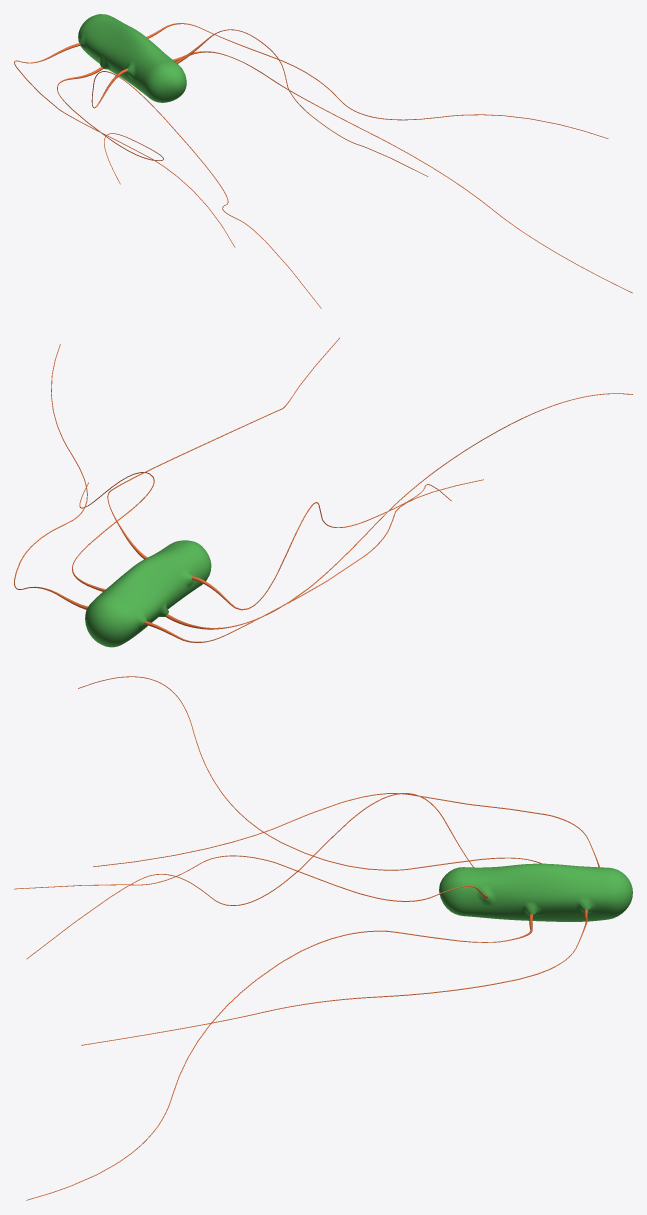
The model's file is salmonella.glb.
3 renders of one model, top to bottom at view 1: azimuth 30°, elevation 25°; view 2: azimuth 150°, elevation 25°; view 3: azimuth 270°, elevation 25°, orthographic. The views are drawn at different scales.
Parts seen in each view (by area): view 1: Salmonella, Fl_ge9, Fl_ge1, Fl_ge4, Fl_ge5, Fl_ge8, Fl_ge10; view 2: Salmonella, Fl_ge10, Fl_ge5, Fl_ge4, Fl_ge9, Fl_ge8, Fl_ge1; view 3: Salmonella, Fl_ge1, Fl_ge9, Fl_ge10, Fl_ge5, Fl_ge4, Fl_ge8.
Boxes of the visible parts, box(x1,y1,x2,y2) form: Salmonella: box(78, 14, 186, 102); Fl_ge9: box(146, 23, 608, 138); Fl_ge1: box(173, 51, 632, 293); Fl_ge4: box(91, 68, 321, 308); Fl_ge5: box(14, 42, 235, 247); Fl_ge8: box(176, 29, 428, 176); Fl_ge10: box(57, 66, 163, 184); Salmonella: box(85, 540, 211, 647); Fl_ge10: box(165, 393, 632, 629); Fl_ge5: box(144, 479, 483, 642); Fl_ge4: box(191, 484, 451, 610); Fl_ge9: box(14, 344, 87, 609); Fl_ge8: box(107, 337, 339, 559); Fl_ge1: box(72, 472, 154, 591); Salmonella: box(439, 863, 632, 921); Fl_ge1: box(26, 914, 533, 1200); Fl_ge9: box(81, 909, 587, 1045); Fl_ge10: box(78, 676, 542, 870); Fl_ge5: box(93, 793, 599, 867); Fl_ge4: box(26, 793, 473, 959); Fl_ge8: box(14, 855, 487, 901).
Bounding box in the file's own units: 33.73 × 15.02 × 32.49.
